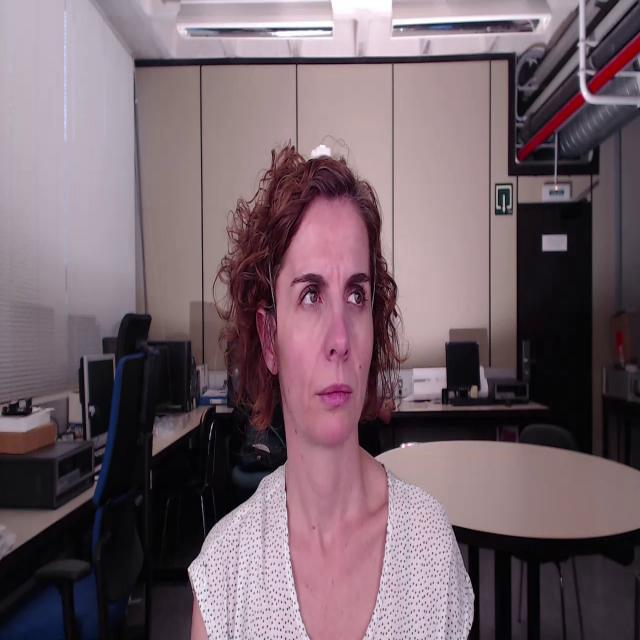eye: (297, 287, 326, 310), (345, 287, 369, 309)
gaze: (309, 288, 319, 306), (354, 291, 363, 305)
